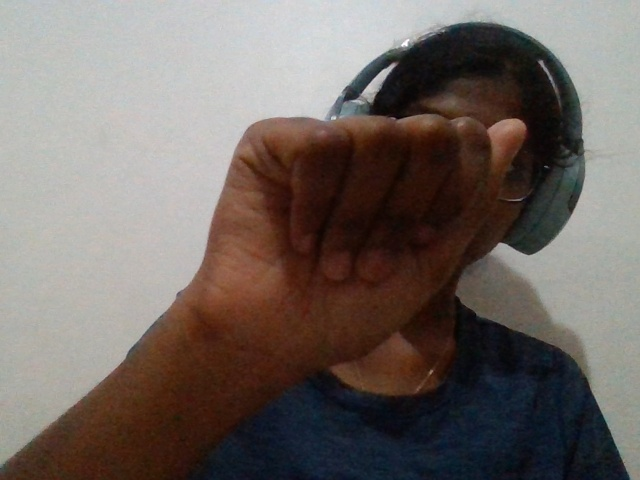A: (91, 66, 562, 449)
